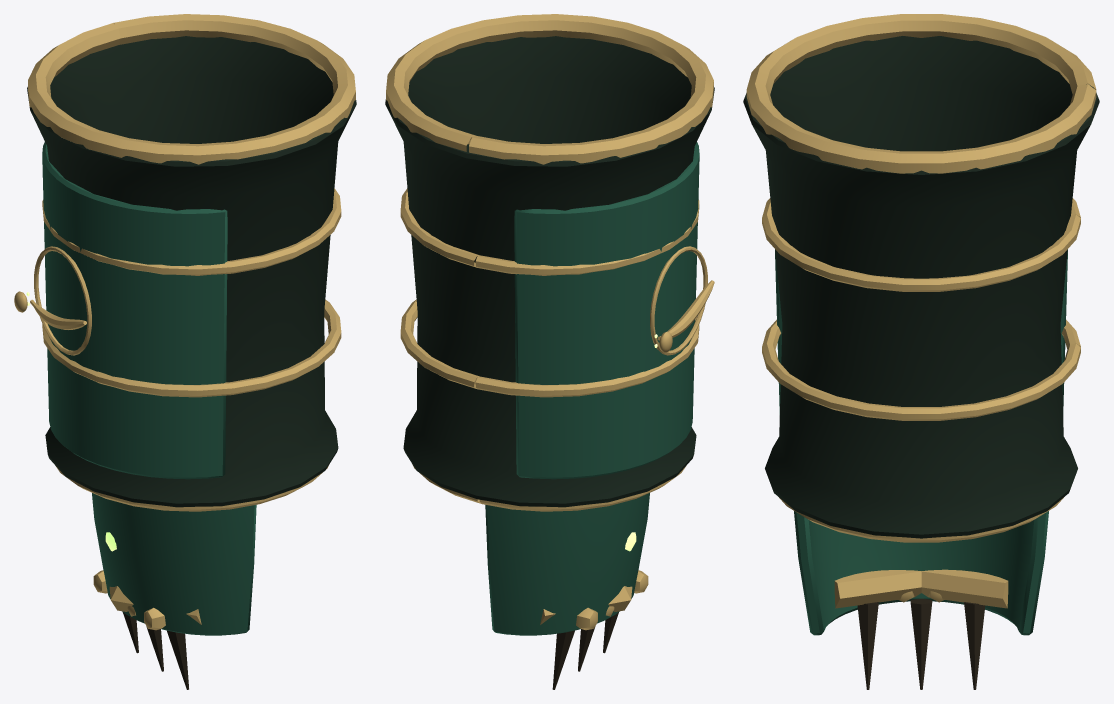
The model's file is boss_serpent_veil_gloves_2.glb.
The picture shows the model from 3 angles, left to right: view 1: azimuth 30°, elevation 25°; view 2: azimuth 150°, elevation 25°; view 3: azimuth 270°, elevation 25°; orthographic projection. The views are drawn at different scales.
Parts seen in each view (by area): view 1: boss_serpent_veil_gloves_2, AT_hand_R; view 2: boss_serpent_veil_gloves_2, AT_hand_R; view 3: boss_serpent_veil_gloves_2, AT_hand_R.
Part boxes in pixels (bbox=[...]): boss_serpent_veil_gloves_2: bbox=[14, 14, 356, 511]; AT_hand_R: bbox=[92, 493, 256, 689]; boss_serpent_veil_gloves_2: bbox=[385, 14, 714, 511]; AT_hand_R: bbox=[485, 493, 649, 689]; boss_serpent_veil_gloves_2: bbox=[743, 14, 1099, 542]; AT_hand_R: bbox=[794, 511, 1048, 689].
Size of the model in its own units: 0.2009 by 0.385 by 0.2004.
